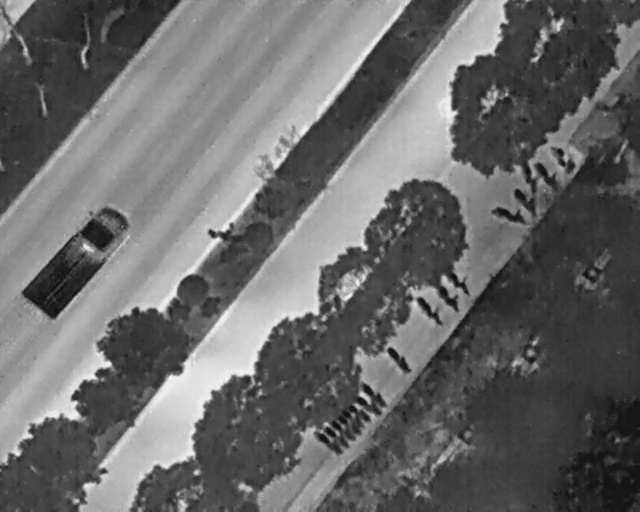Bicycle: (410, 289, 450, 331), (489, 198, 533, 230), (381, 340, 417, 378), (442, 262, 477, 299), (432, 279, 467, 316), (546, 141, 580, 179), (529, 157, 563, 195), (512, 182, 544, 220), (356, 378, 391, 412), (350, 390, 386, 421), (320, 422, 352, 451), (312, 428, 344, 457), (346, 399, 375, 425), (337, 407, 366, 433), (333, 412, 362, 438), (328, 417, 357, 443)
OtherVehicle: (14, 190, 142, 327)
